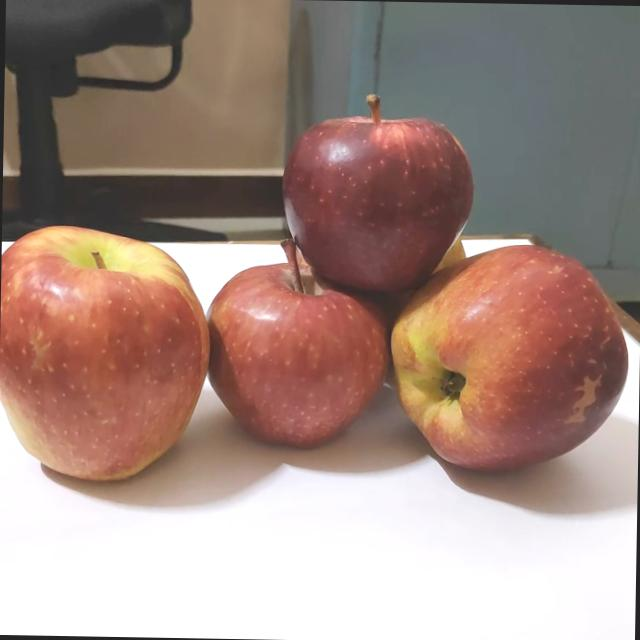apple: (381, 237, 628, 483), (0, 221, 212, 492), (274, 91, 478, 300), (195, 238, 390, 454), (412, 224, 473, 285)
